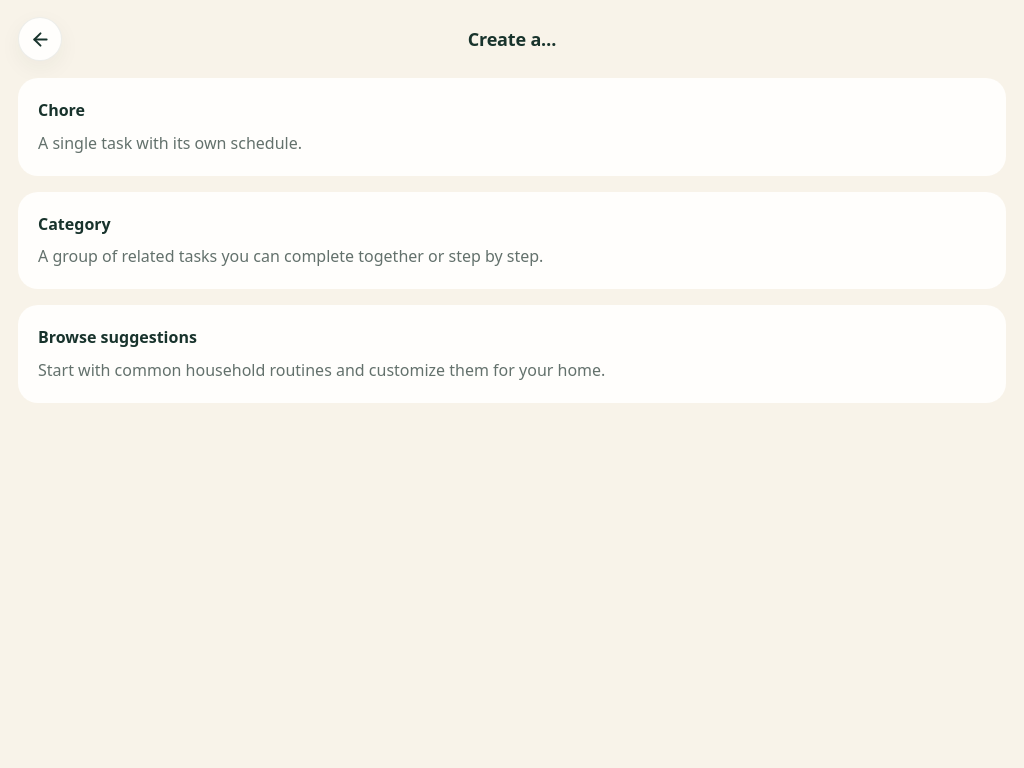
Test case: Add chooser › explicitly exposes Category naming and optional subtasks including zero steps
What coordinates should you click on to do the following:
click the button "Category A group"
I would click on:
 (74, 224)
Its box is [18,192,1006,289].
(page scrolled)
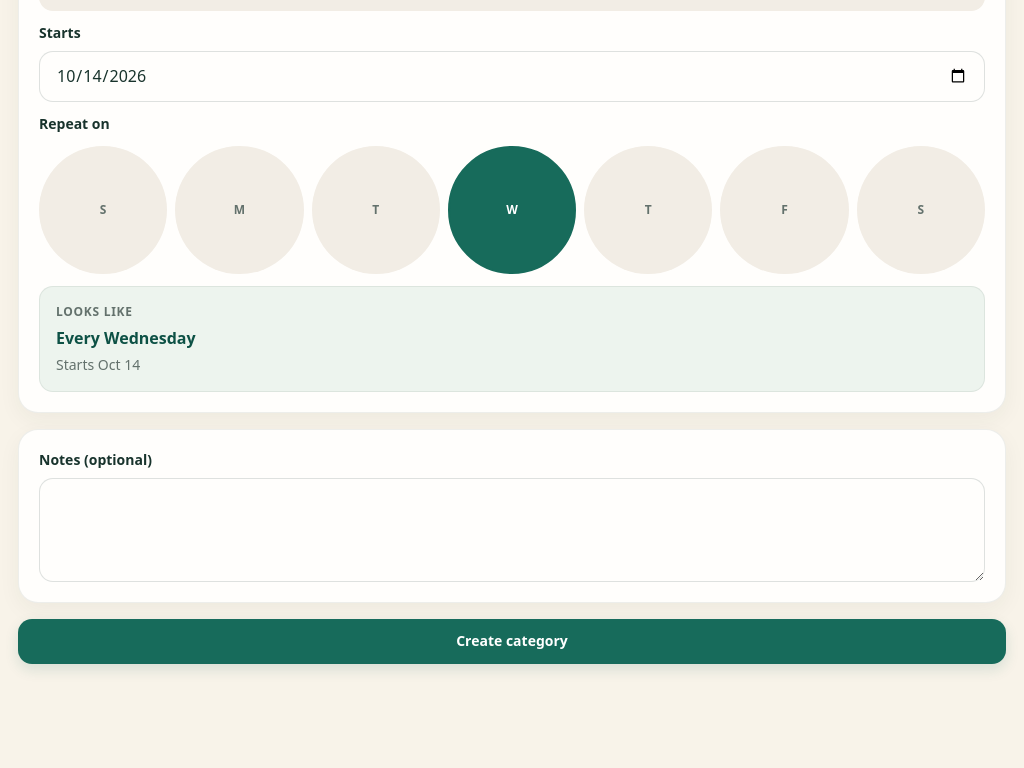
Expected: the button "Create category" is shown, [18,619,1006,664]
